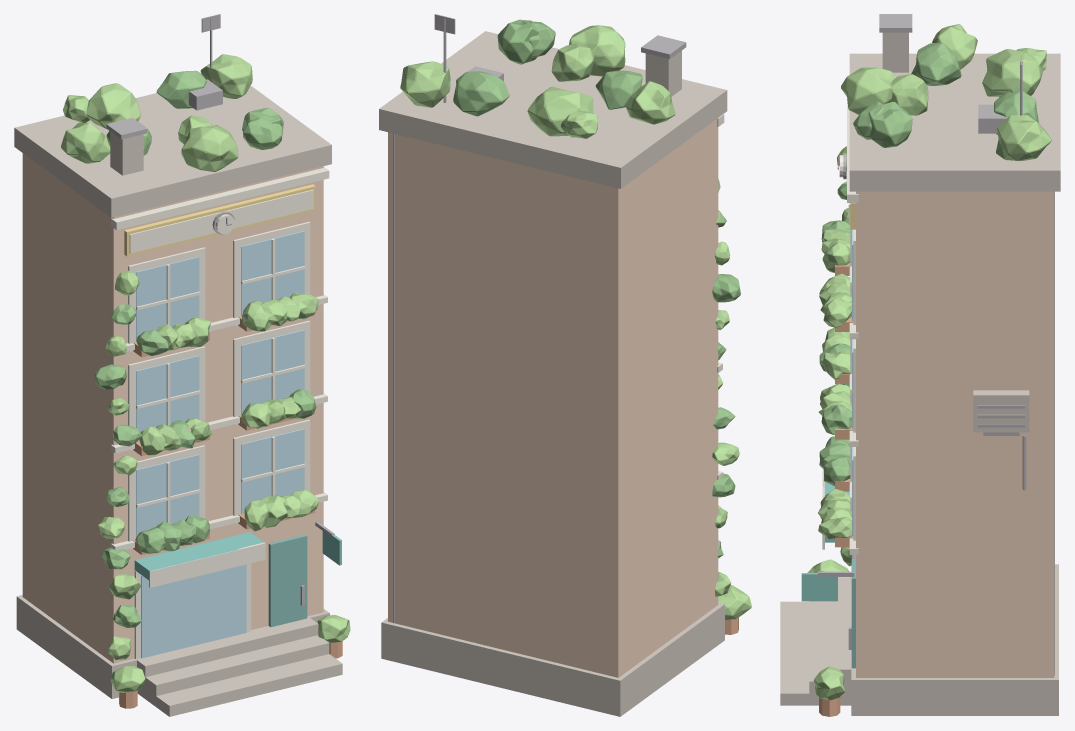
Rendered from Shop_B.fbx.
3 renders of one model, left to right at view 1: azimuth 30°, elevation 25°; view 2: azimuth 150°, elevation 25°; view 3: azimuth 270°, elevation 25°, orthographic. The views are drawn at different scales.
Parts seen in each view (by area): view 1: Shop_B, Shop_B_Veg; view 2: Shop_B, Shop_B_Veg; view 3: Shop_B, Shop_B_Veg.
Part boxes in pixels (x1=…): Shop_B: x1=14, y1=14, x2=342, y2=716; Shop_B_Veg: x1=61, y1=54, x2=350, y2=692; Shop_B: x1=379, y1=14, x2=738, y2=716; Shop_B_Veg: x1=400, y1=19, x2=751, y2=619; Shop_B: x1=780, y1=14, x2=1060, y2=716; Shop_B_Veg: x1=807, y1=24, x2=1051, y2=700.
Size of the model in its own units: 4.61 by 10.6 by 4.25.
